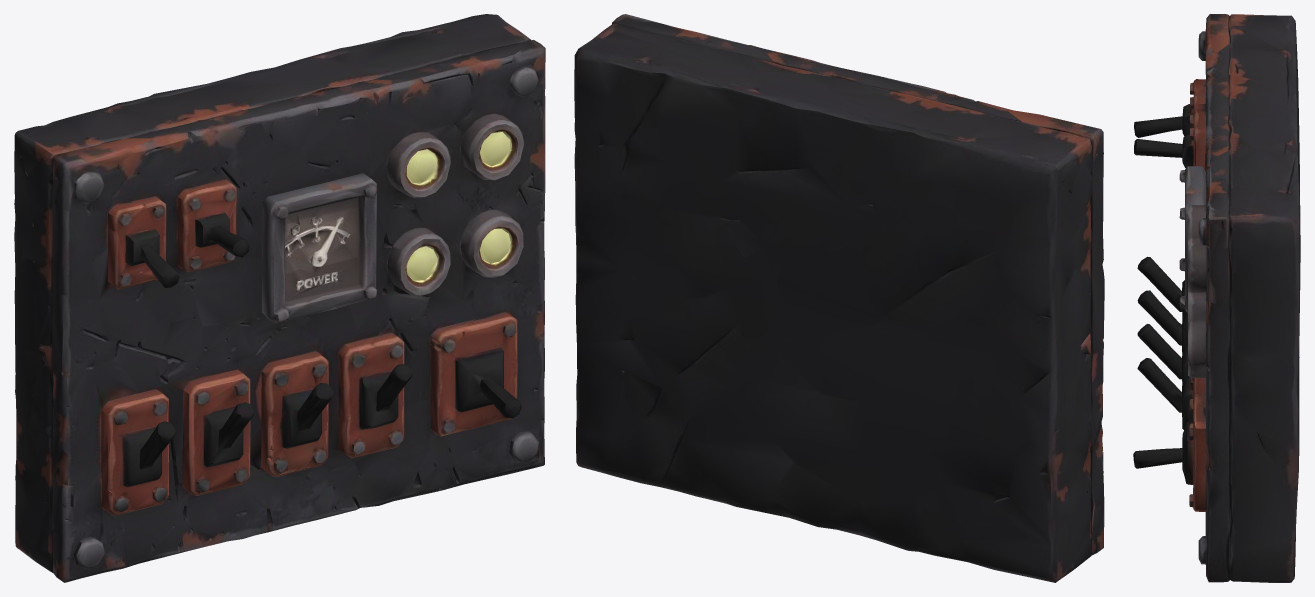
Rendered from shelter_panel_prostoy_pult_idle.glb.
The picture shows the model from 3 angles, left to right: view 1: azimuth 30°, elevation 25°; view 2: azimuth 150°, elevation 25°; view 3: azimuth 270°, elevation 25°; orthographic projection. The views are drawn at different scales.
Visible parts, largest first — view 1: tripo_node_7f9ff25f-809a-47ea-87e0-3bf9e552ff60; view 2: tripo_node_7f9ff25f-809a-47ea-87e0-3bf9e552ff60; view 3: tripo_node_7f9ff25f-809a-47ea-87e0-3bf9e552ff60.
Boxes of the visible parts, x1=… form: tripo_node_7f9ff25f-809a-47ea-87e0-3bf9e552ff60: x1=14, y1=14, x2=545, y2=582; tripo_node_7f9ff25f-809a-47ea-87e0-3bf9e552ff60: x1=574, y1=14, x2=1104, y2=582; tripo_node_7f9ff25f-809a-47ea-87e0-3bf9e552ff60: x1=1133, y1=14, x2=1300, y2=582.
Size of the model in its own units: 0.8401 by 0.6995 by 0.2884.
Materials: 1 (1 with a texture image).
